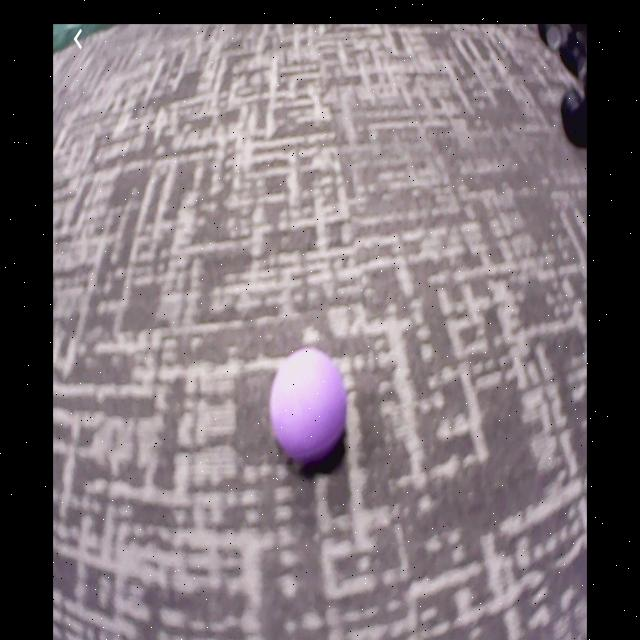ball: (272, 347, 346, 465)
